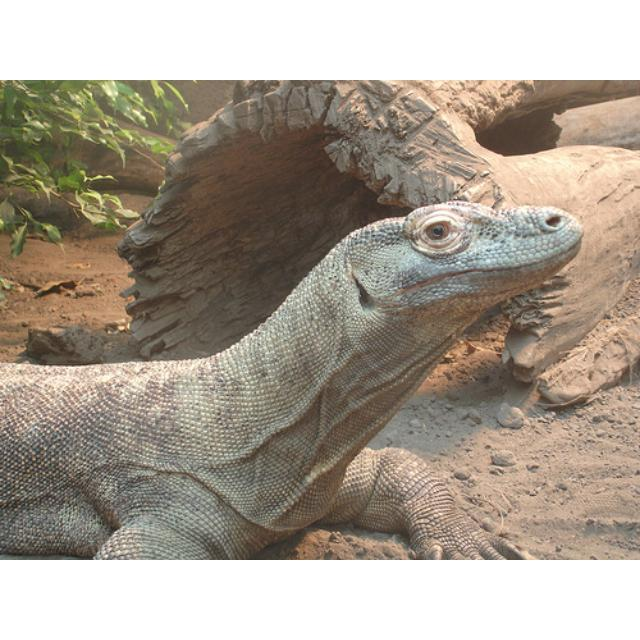KomodoDragon: (1, 200, 584, 557)
